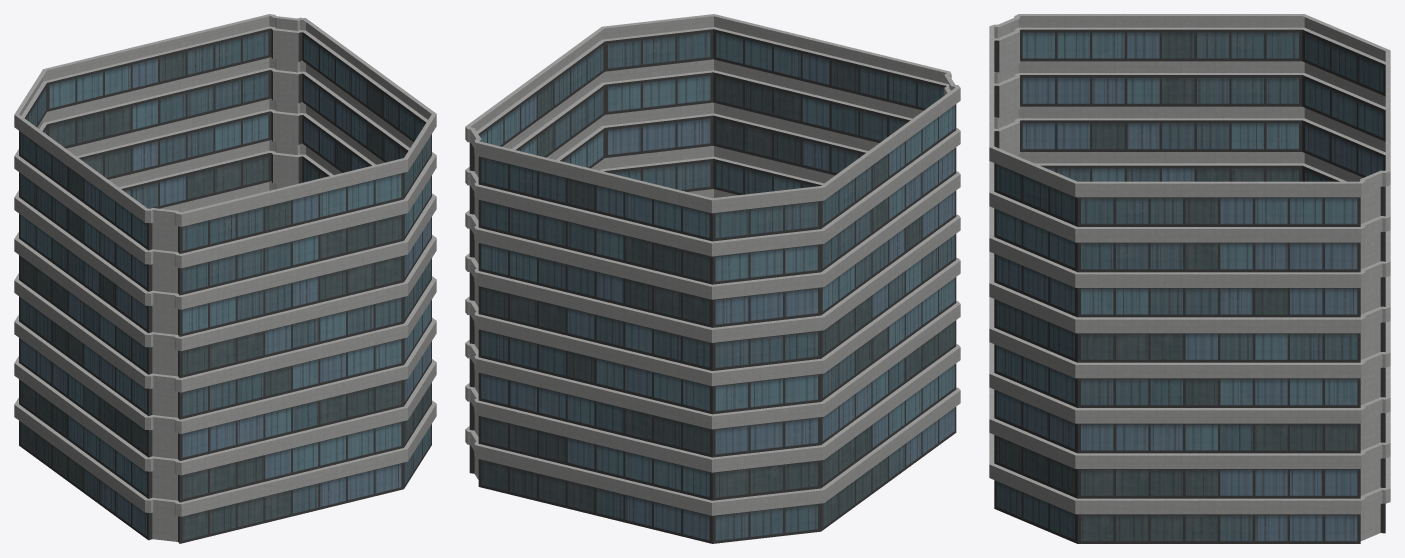
The model's file is jctBld24_C_mdl_low.fbx.
3 views of the same model, side by side, from view 1: azimuth 30°, elevation 25°; view 2: azimuth 150°, elevation 25°; view 3: azimuth 270°, elevation 25° (orthographic). The views are drawn at different scales.
Visible parts, largest first — view 1: jctBld24_C_mdl_low; view 2: jctBld24_C_mdl_low; view 3: jctBld24_C_mdl_low.
Boxes of the visible parts, bbox=[...] form: jctBld24_C_mdl_low: bbox=[14, 14, 436, 543]; jctBld24_C_mdl_low: bbox=[465, 14, 960, 543]; jctBld24_C_mdl_low: bbox=[989, 14, 1390, 543].
Size of the model in its own units: 2410 by 2400 by 2410.
